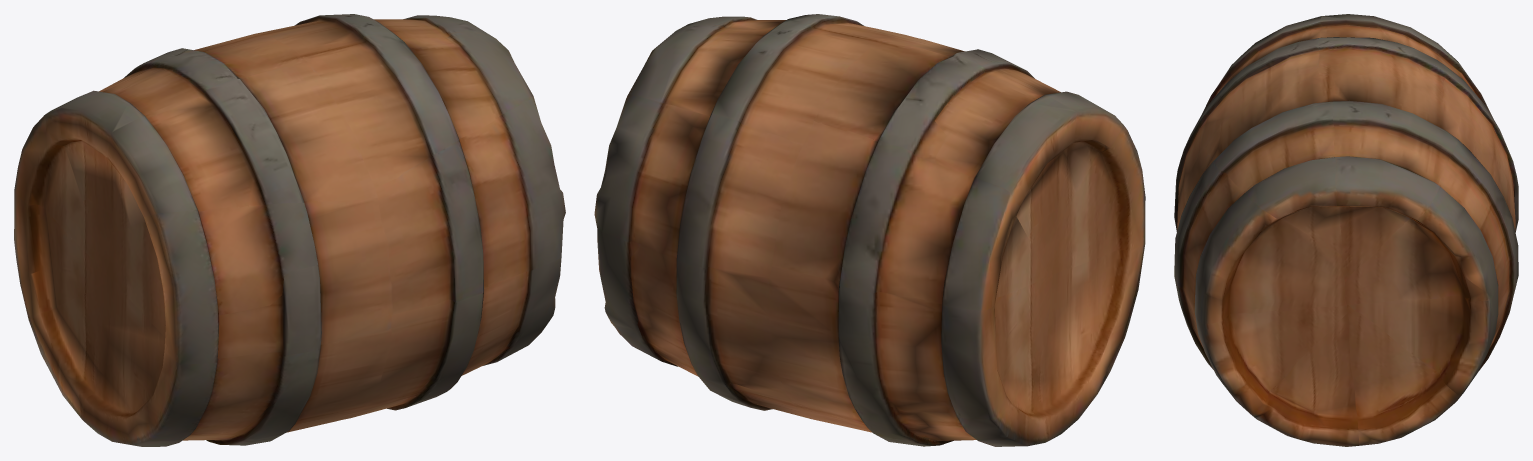
File: barrel.glb
3 views of the same model, side by side, from view 1: azimuth 30°, elevation 25°; view 2: azimuth 150°, elevation 25°; view 3: azimuth 270°, elevation 25° (orthographic). The views are drawn at different scales.
Parts seen in each view (by area): view 1: tripo_node_3f05771d-be85-4354-ba44-962b3db8cf50; view 2: tripo_node_3f05771d-be85-4354-ba44-962b3db8cf50; view 3: tripo_node_3f05771d-be85-4354-ba44-962b3db8cf50.
Boxes of the visible parts, box(x1,y1,x2,y2) form: tripo_node_3f05771d-be85-4354-ba44-962b3db8cf50: box(14, 14, 565, 446); tripo_node_3f05771d-be85-4354-ba44-962b3db8cf50: box(594, 14, 1145, 446); tripo_node_3f05771d-be85-4354-ba44-962b3db8cf50: box(1174, 14, 1518, 446).
Size of the model in its own units: 0.9467 by 0.8365 by 0.82.
Materials: 1 (1 with a texture image).
